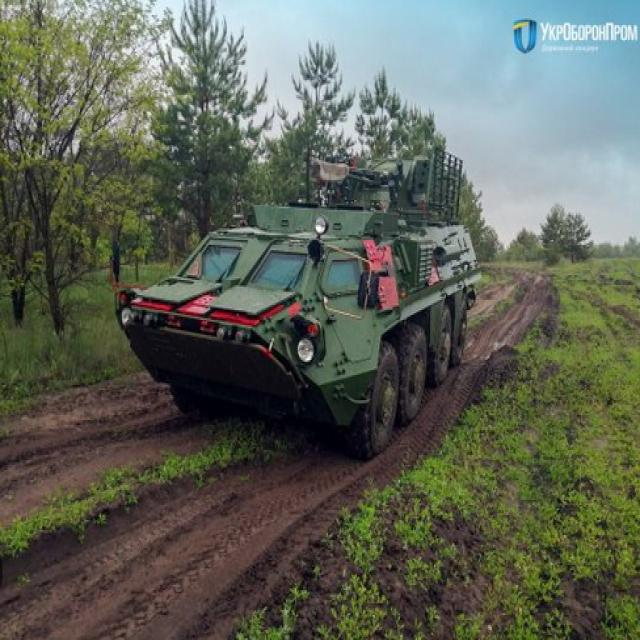MIL_APC: (97, 182, 513, 450)
